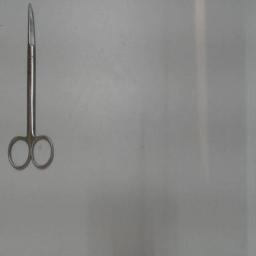Curved Mayo Scissors: (4, 2, 58, 174)
